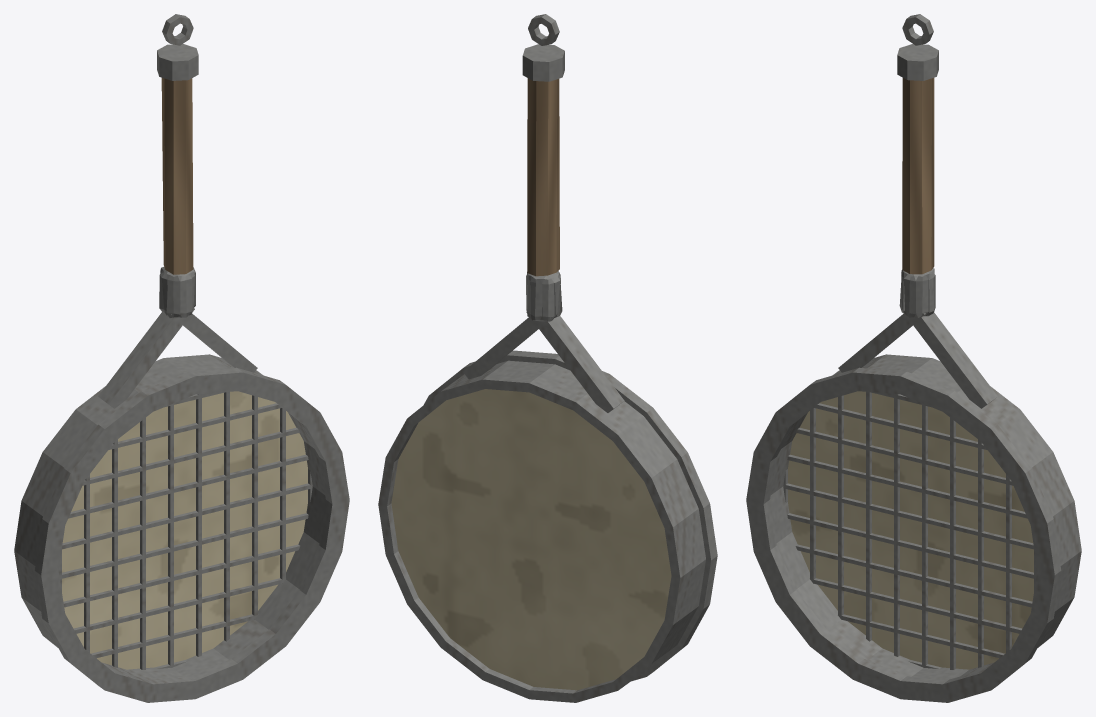
File: silver_sieve_net.glb
3 renders of one model, left to right at view 1: azimuth 30°, elevation 25°; view 2: azimuth 150°, elevation 25°; view 3: azimuth 330°, elevation 25°, orthographic.
Visible parts, largest first — view 1: SilverSieveNet; view 2: SilverSieveNet; view 3: SilverSieveNet.
Boxes of the visible parts, x1=… form: SilverSieveNet: x1=14, y1=14, x2=349, y2=702; SilverSieveNet: x1=378, y1=14, x2=717, y2=702; SilverSieveNet: x1=746, y1=14, x2=1081, y2=702.
Size of the model in its own units: 0.496 by 1.03 by 0.089.
Materials: 3 (3 with a texture image).
